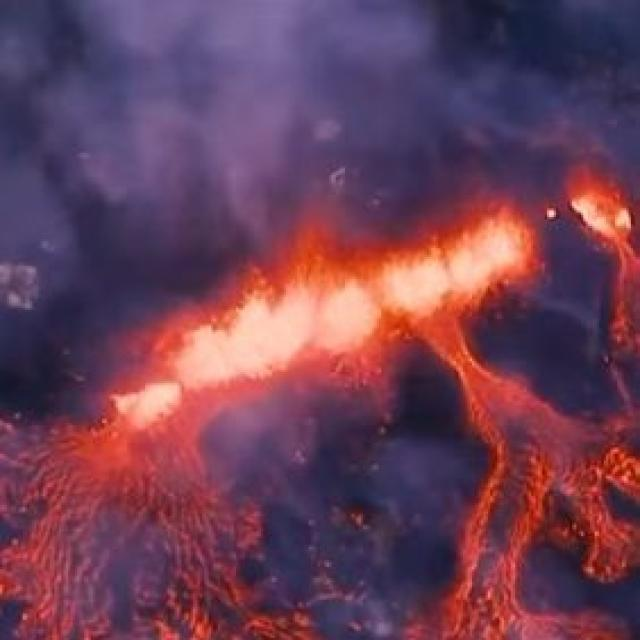Fire: (98, 213, 530, 428)
Smoke: (0, 0, 609, 213)
